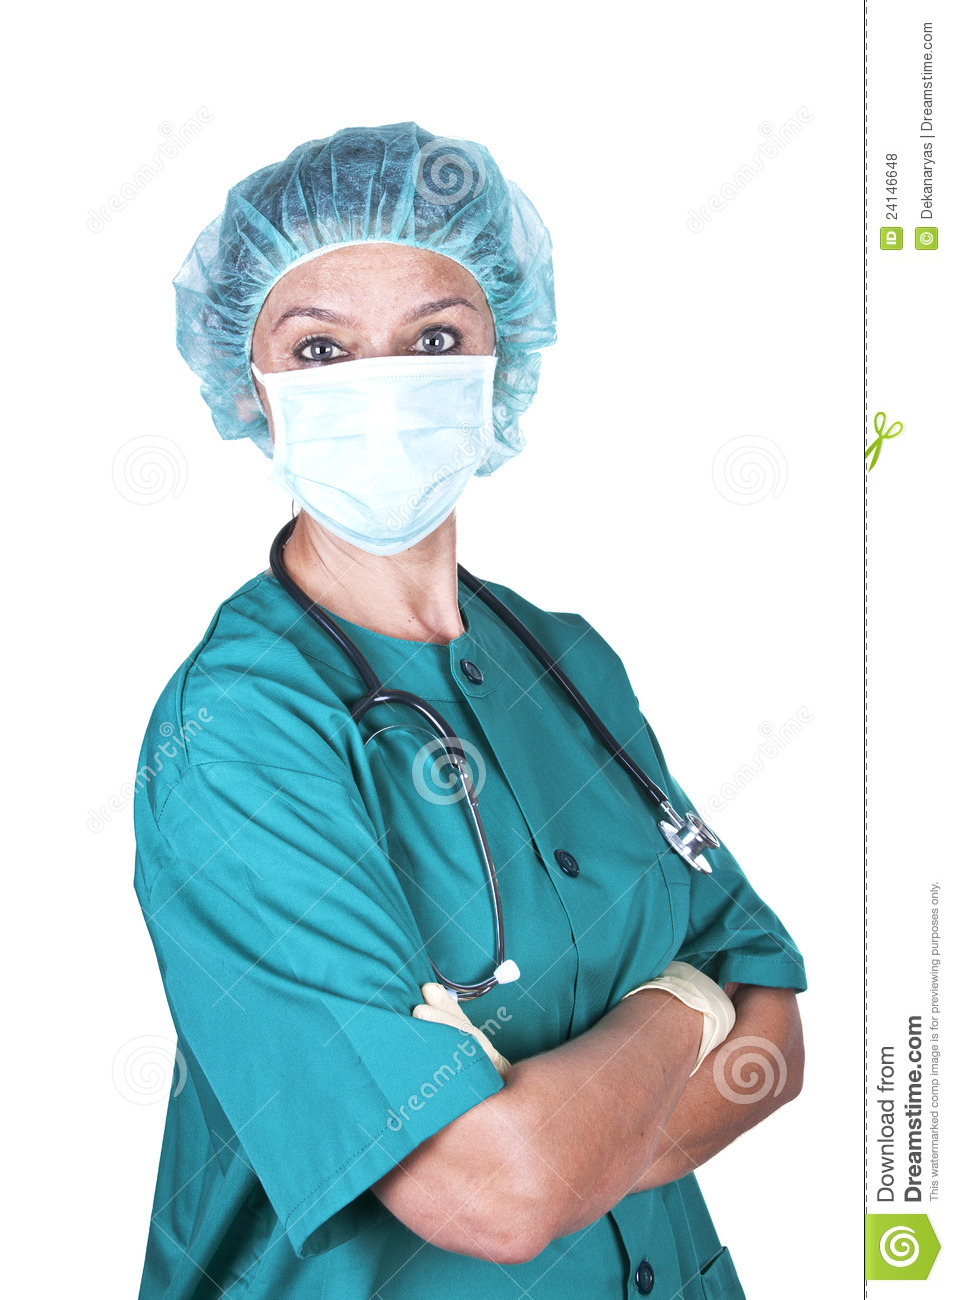mask: (243, 363, 509, 545)
